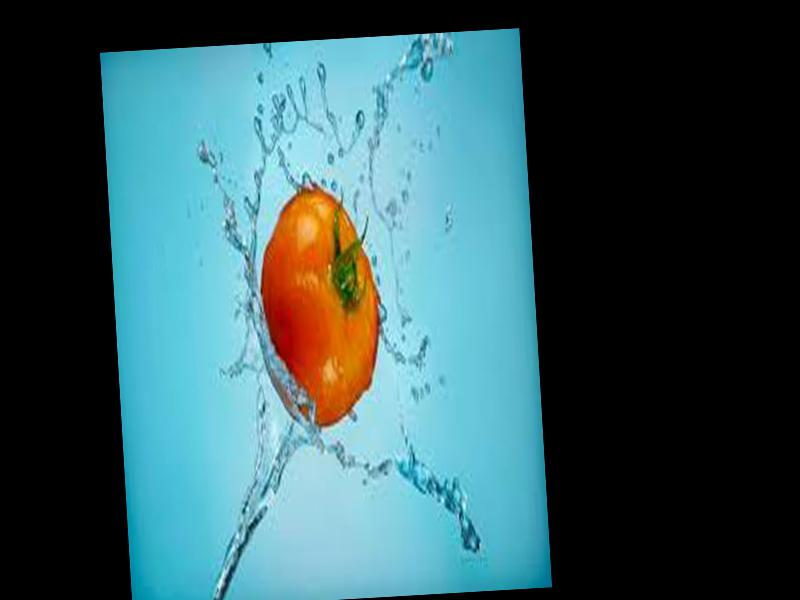Tomato: (253, 182, 384, 429)
